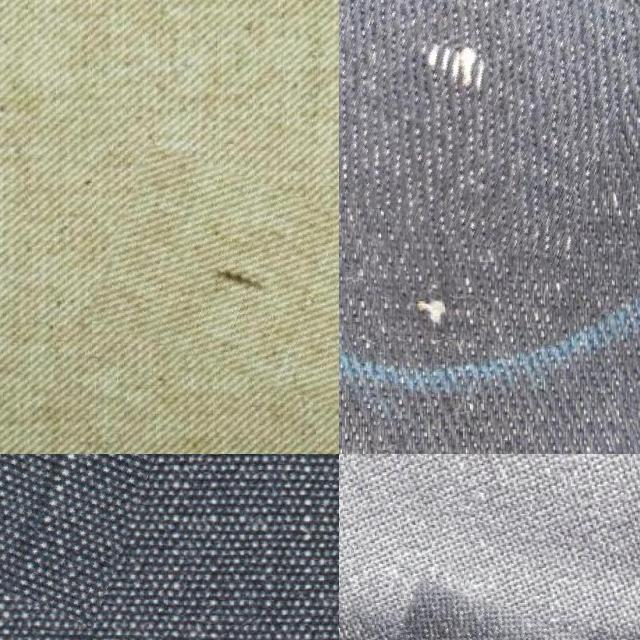stains: (339, 0, 640, 253), (98, 162, 339, 389), (0, 454, 209, 618), (380, 594, 602, 640)
